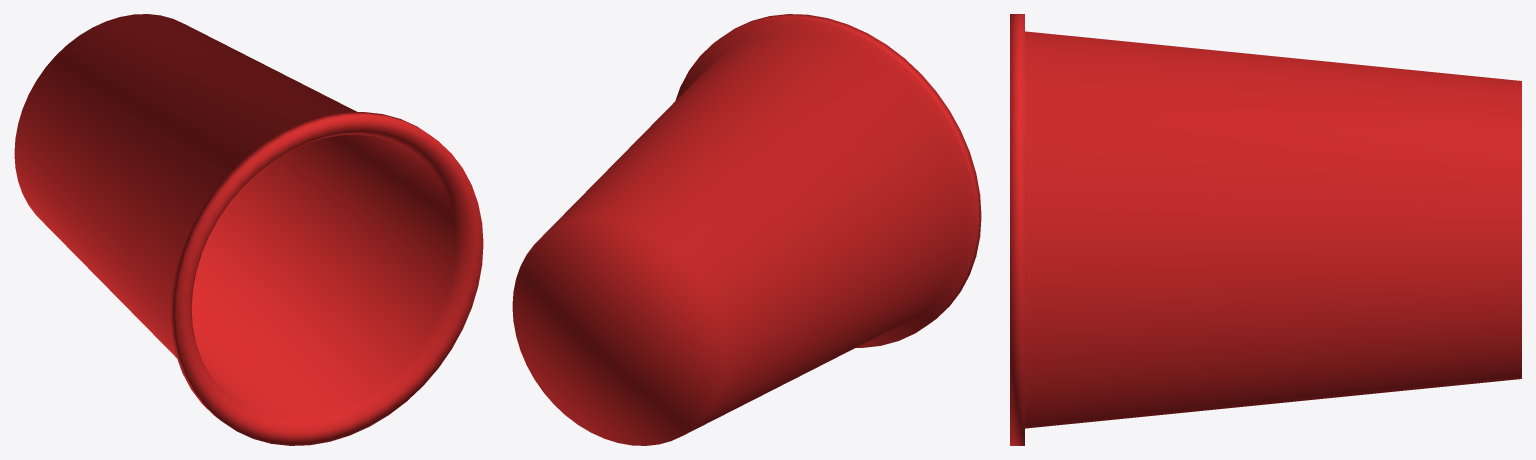
The model's file is Cup_Red.obj.
3 renders of one model, left to right at view 1: azimuth 30°, elevation 25°; view 2: azimuth 150°, elevation 25°; view 3: azimuth 270°, elevation 25°, orthographic. The views are drawn at different scales.
Parts seen in each view (by area): view 1: Cup_Red; view 2: Cup_Red; view 3: Cup_Red.
Part boxes in pixels (box(x1,y1,x2,y2)): Cup_Red: box(14, 14, 483, 445); Cup_Red: box(512, 14, 981, 445); Cup_Red: box(1010, 14, 1521, 445).
Size of the model in its own units: 0.087 by 0.087 by 0.103.
